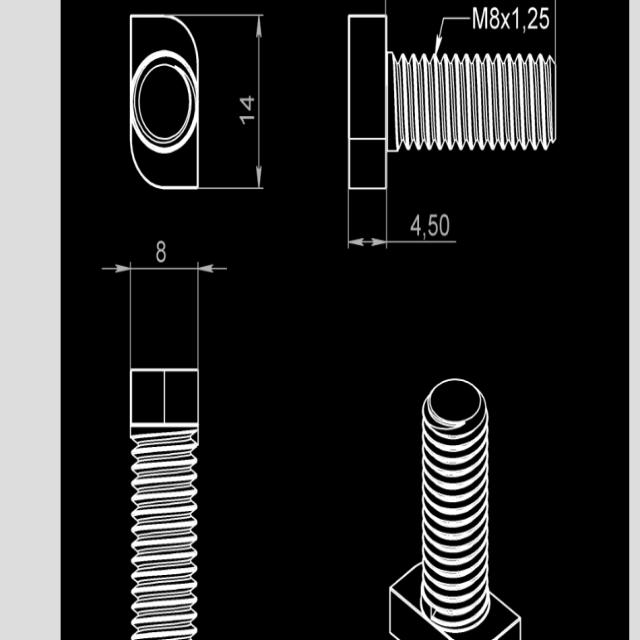marking_line: (101, 262, 228, 369), (199, 14, 267, 193), (345, 191, 458, 250), (433, 13, 470, 53)
numeric: (473, 7, 487, 29), (156, 240, 167, 264), (428, 213, 439, 237), (439, 213, 450, 237), (240, 95, 255, 111), (411, 215, 422, 236), (540, 7, 550, 30), (490, 6, 500, 29), (528, 7, 538, 29), (239, 114, 255, 125), (513, 7, 520, 30)
special_symbol: (501, 12, 511, 29), (422, 231, 426, 240), (522, 25, 526, 34)
